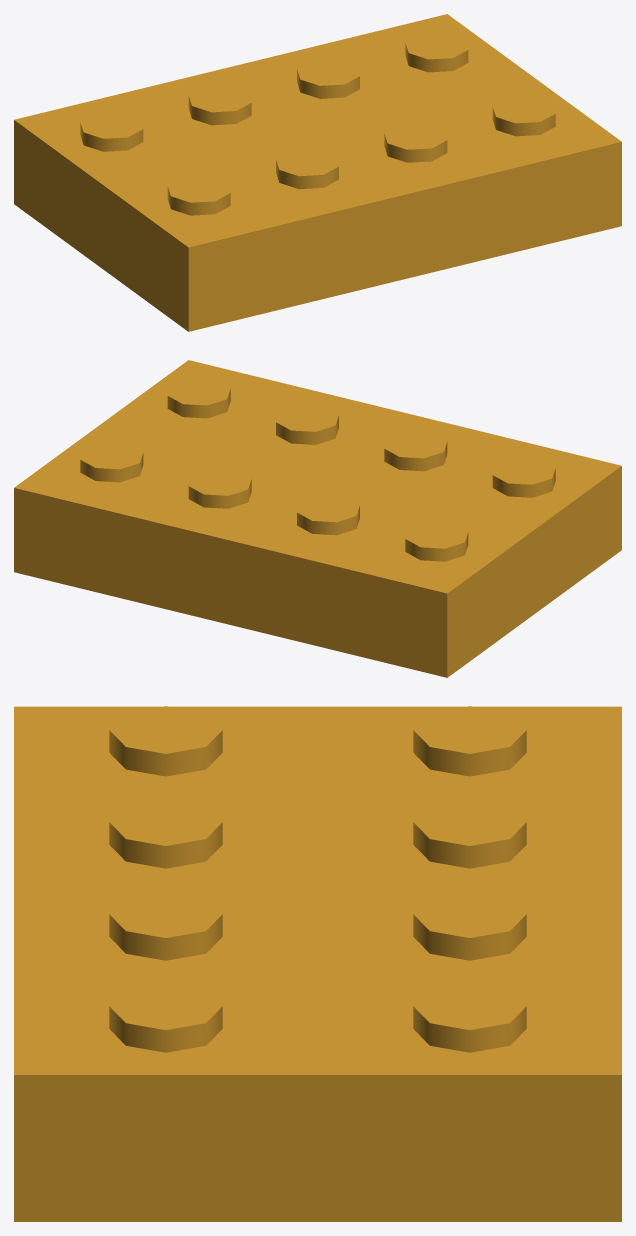
Rendered from LegoChestLid.glb.
3 renders of one model, top to bottom at view 1: azimuth 30°, elevation 25°; view 2: azimuth 150°, elevation 25°; view 3: azimuth 270°, elevation 25°, orthographic. The views are drawn at different scales.
Parts seen in each view (by area): view 1: LegoChestLid; view 2: LegoChestLid; view 3: LegoChestLid.
Boxes of the visible parts, x1,y1,x2,y2 form: LegoChestLid: (14,14,621,331); LegoChestLid: (14,360,621,677); LegoChestLid: (14,706,621,1221).
Bounding box in the file's own units: 0.86 × 0.1846 × 0.6.
